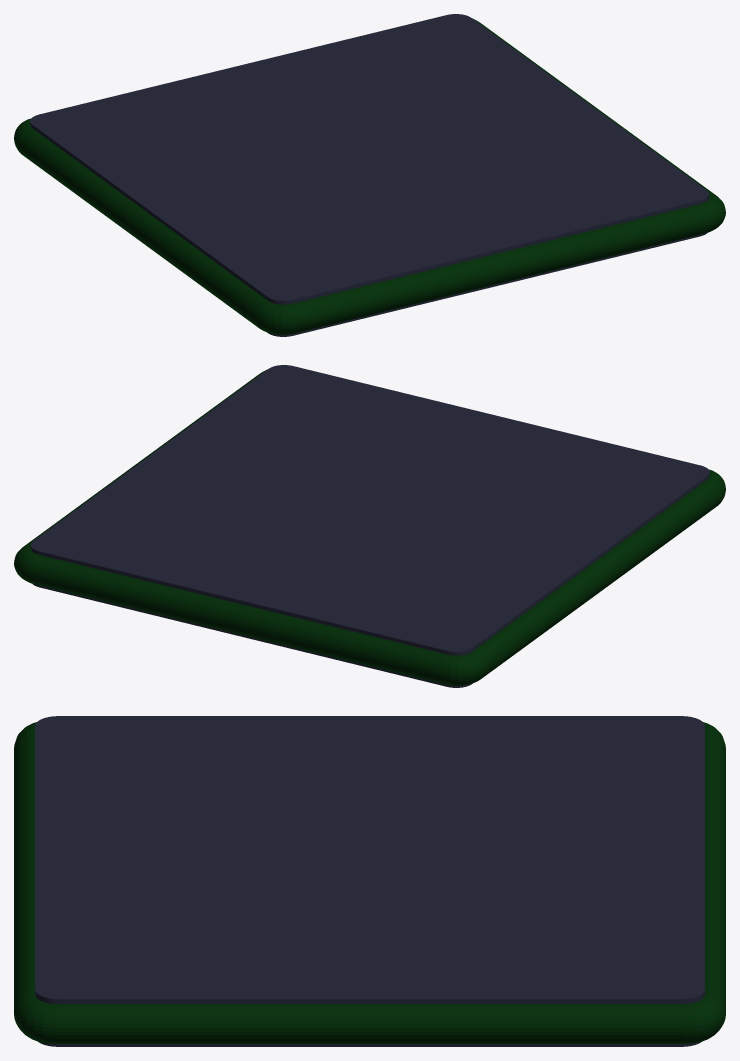
File: floor_1.fbx
3 views of the same model, one above another, from view 1: azimuth 30°, elevation 25°; view 2: azimuth 150°, elevation 25°; view 3: azimuth 270°, elevation 25° (orthographic). The views are drawn at different scales.
Visible parts, largest first — view 1: Cube, border_posts, Cube.001; view 2: Cube, border_posts, Cube.001; view 3: Cube, border_posts, Cube.001.
Boxes of the visible parts, x1,y1,x2,y2 form: Cube: [30, 14, 708, 304]; border_posts: [14, 18, 725, 334]; Cube.001: [267, 233, 706, 336]; Cube: [31, 365, 709, 655]; border_posts: [14, 369, 725, 685]; Cube.001: [33, 584, 472, 687]; Cube: [35, 716, 704, 1003]; border_posts: [14, 722, 725, 1043]; Cube.001: [38, 1041, 701, 1046].
Size of the model in its own units: 340 by 25.14 by 340.
